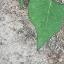Morning glory: (10, 0, 64, 52)
